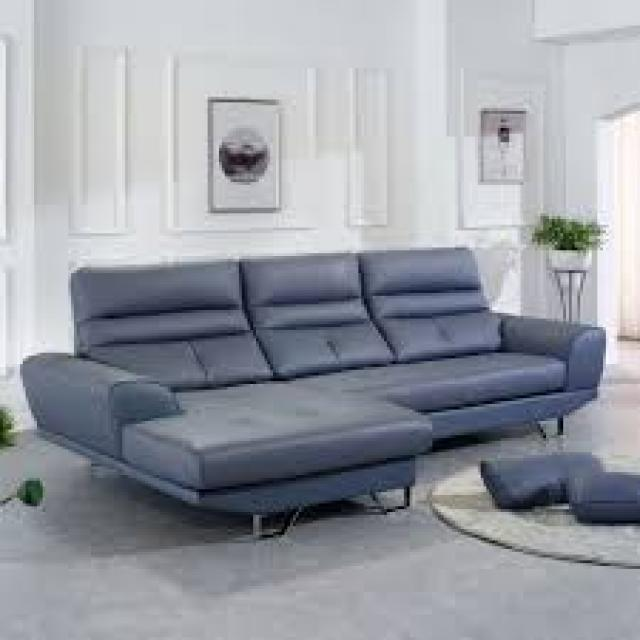Sofa: (10, 236, 620, 536)
